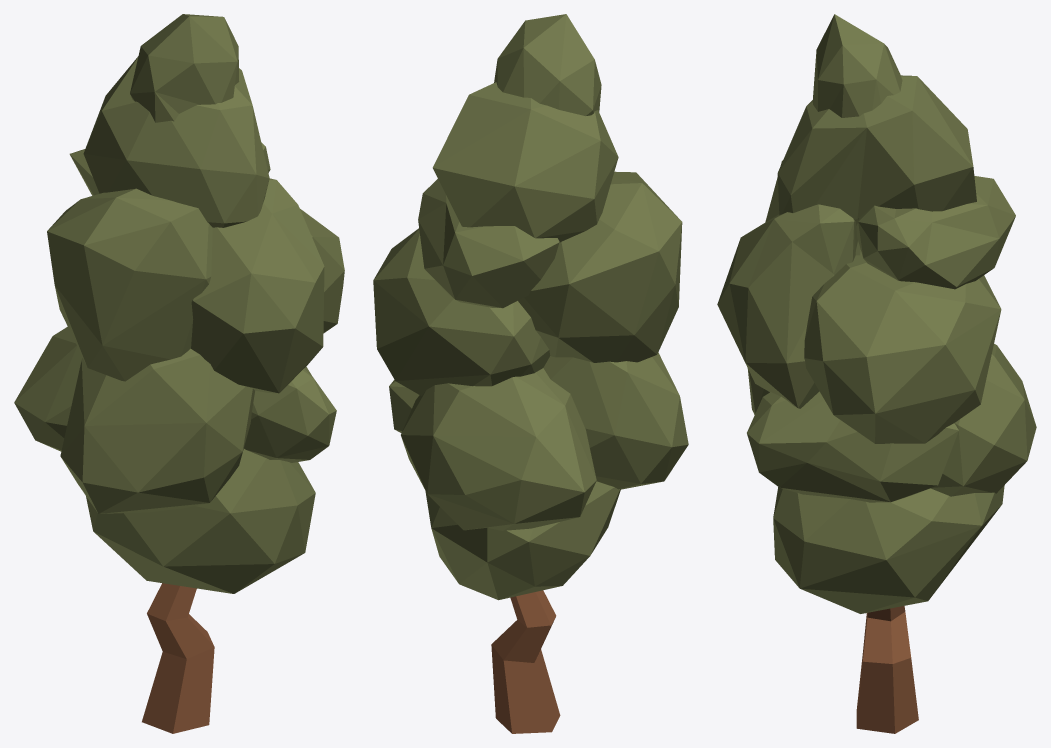
The model's file is Tree_04.fbx.
The picture shows the model from 3 angles, left to right: view 1: azimuth 30°, elevation 25°; view 2: azimuth 150°, elevation 25°; view 3: azimuth 270°, elevation 25°; orthographic projection. The views are drawn at different scales.
Visible parts, largest first — view 1: Cylinder.008, Cylinder.005, Cylinder.013, Cylinder.004, Cylinder.012, Cylinder.010, Cylinder.003, Cylinder.006, Cylinder.014, Cylinder.007, Cylinder.009; view 2: Cylinder.014, Cylinder.012, Cylinder.008, Cylinder.007, Cylinder.005, Cylinder.004, Cylinder.009, Cylinder.010, Cylinder.003, Cylinder.006; view 3: Cylinder.007, Cylinder.004, Cylinder.012, Cylinder.013, Cylinder.006, Cylinder.009, Cylinder.014, Cylinder.010, Cylinder.003.
Boxes of the visible parts, box(x1,y1,x2,y2) form: Cylinder.008: box(47, 188, 212, 381); Cylinder.005: box(60, 348, 254, 513); Cylinder.013: box(191, 178, 324, 393); Cylinder.004: box(86, 449, 315, 593); Cylinder.012: box(83, 56, 269, 227); Cylinder.010: box(130, 14, 239, 122); Cylinder.003: box(142, 583, 214, 733); Cylinder.006: box(244, 366, 336, 462); Cylinder.014: box(14, 326, 82, 451); Cylinder.007: box(300, 209, 344, 333); Cylinder.009: box(69, 142, 270, 195); Cylinder.014: box(401, 368, 596, 530); Cylinder.012: box(432, 82, 618, 242); Cylinder.008: box(518, 171, 682, 362); Cylinder.007: box(373, 228, 550, 395); Cylinder.005: box(543, 352, 688, 489); Cylinder.004: box(425, 481, 620, 600); Cylinder.009: box(418, 179, 559, 308); Cylinder.010: box(494, 14, 601, 115); Cylinder.003: box(491, 590, 560, 733); Cylinder.006: box(389, 380, 419, 432); Cylinder.007: box(804, 255, 1001, 443); Cylinder.004: box(773, 485, 1004, 613); Cylinder.012: box(777, 75, 976, 225); Cylinder.013: box(717, 204, 857, 408); Cylinder.006: box(747, 391, 958, 502); Cylinder.009: box(856, 176, 1015, 289); Cylinder.014: box(931, 343, 1036, 496); Cylinder.010: box(812, 14, 902, 117); Cylinder.003: box(856, 606, 918, 733).
Size of the model in its own units: 198 by 458 by 189.
